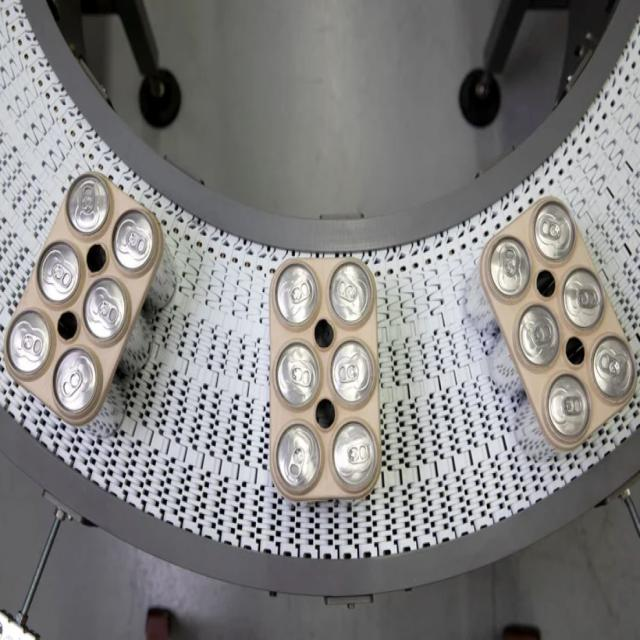bottle: (3, 168, 165, 428), (478, 193, 637, 452), (268, 255, 382, 504)
